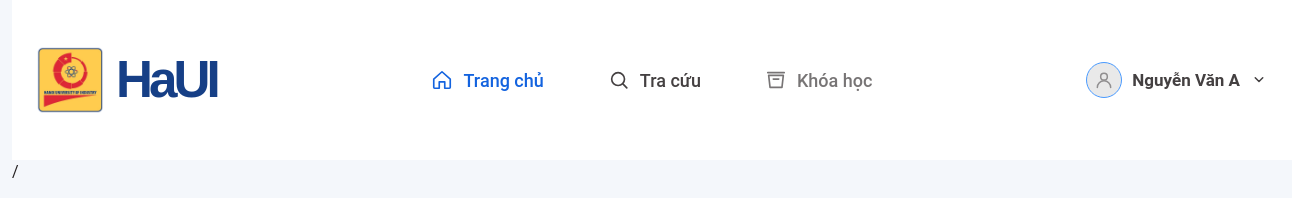
MainHeader › navigates to journals and keeps only the course item disabled
What coordinates should you click on to do the following:
click the link "Tra cứu"
I would click on:
 (654, 80)
Its box is top-left (608, 69), bottom-right (701, 91).
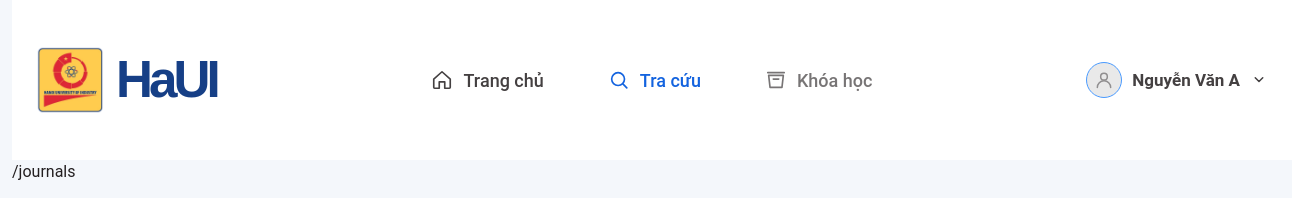
Expected: the text with test id "location" reads "/journals", top-left (12, 162), bottom-right (76, 181)
